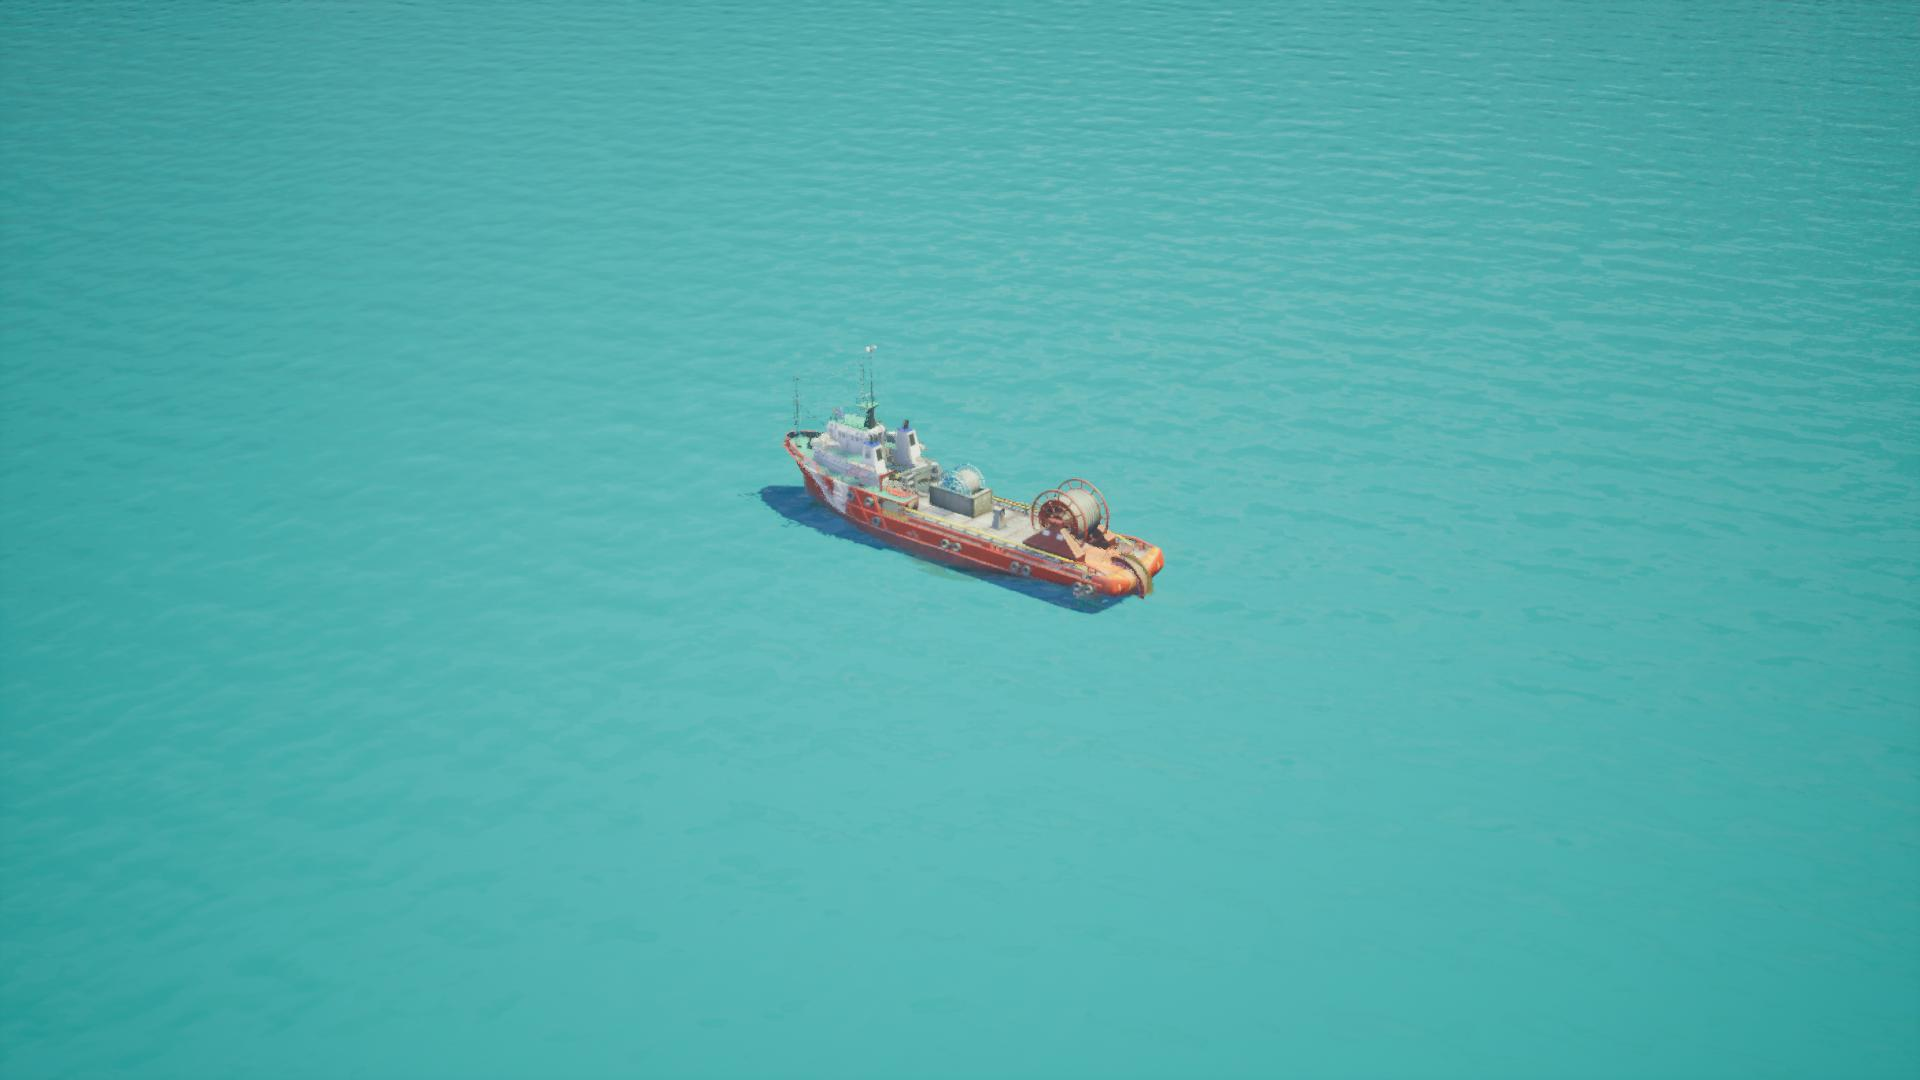Tug Boat: (766, 360, 1162, 617)
